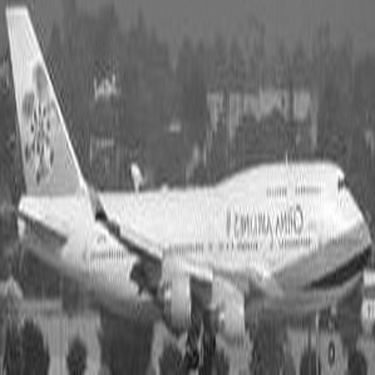airplane: (4, 10, 367, 368)
